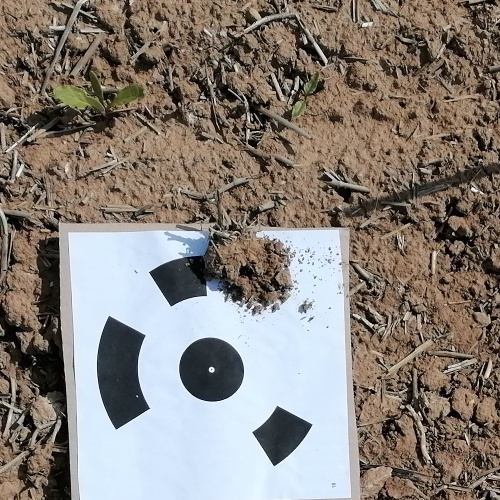beet: (52, 70, 144, 120), (292, 72, 319, 119)
